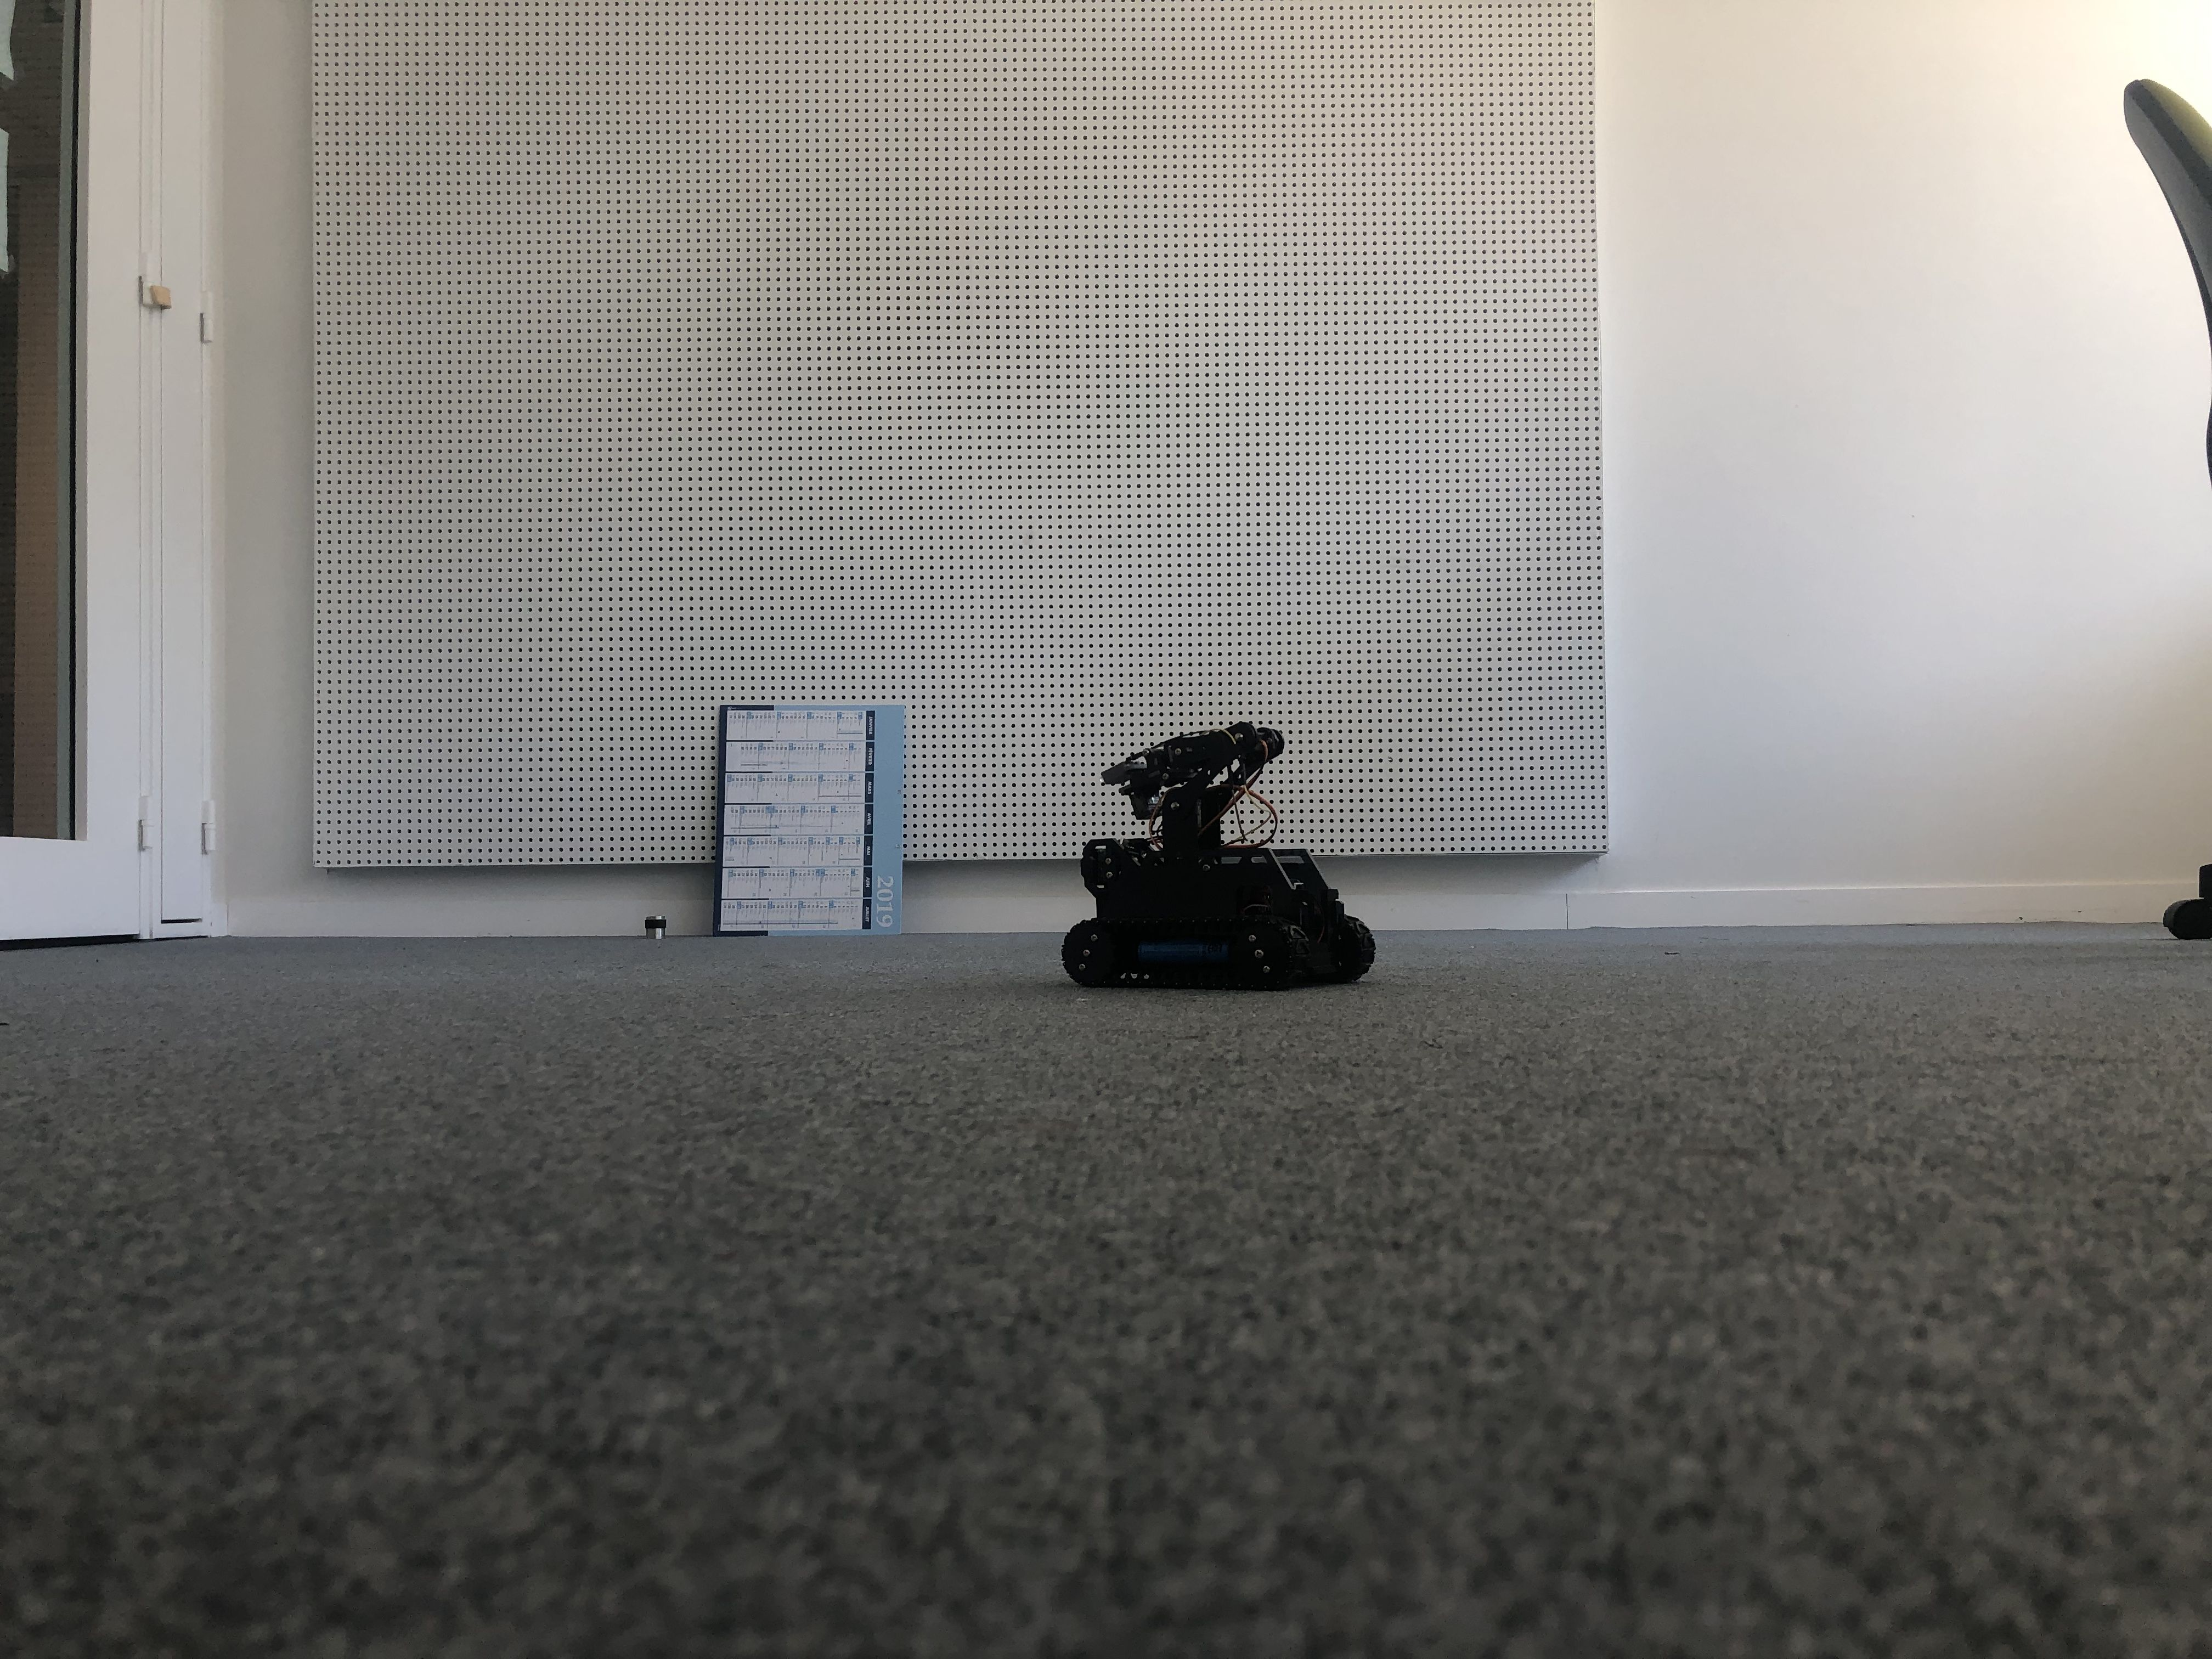rasptank: (1054, 721, 1381, 995)
